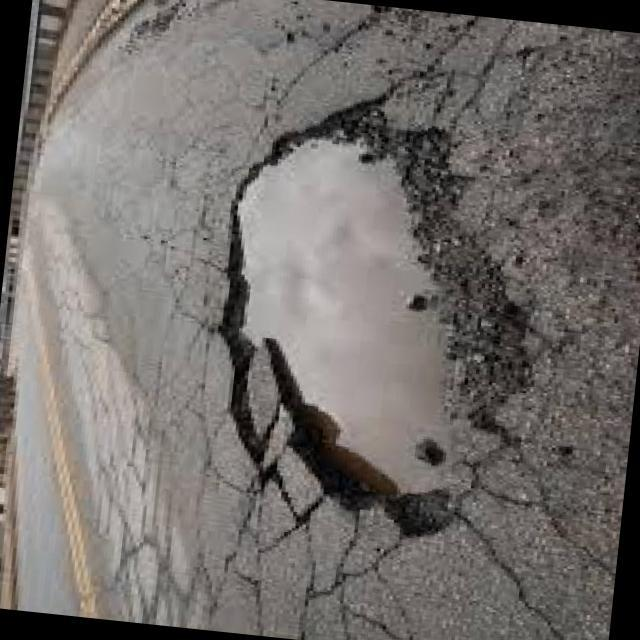pothole: (190, 84, 532, 552)
